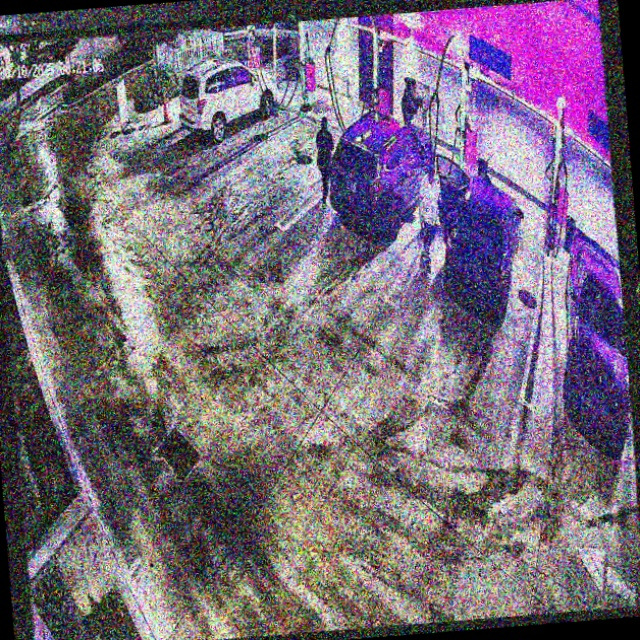Car: (434, 152, 528, 322), (328, 107, 441, 237)
